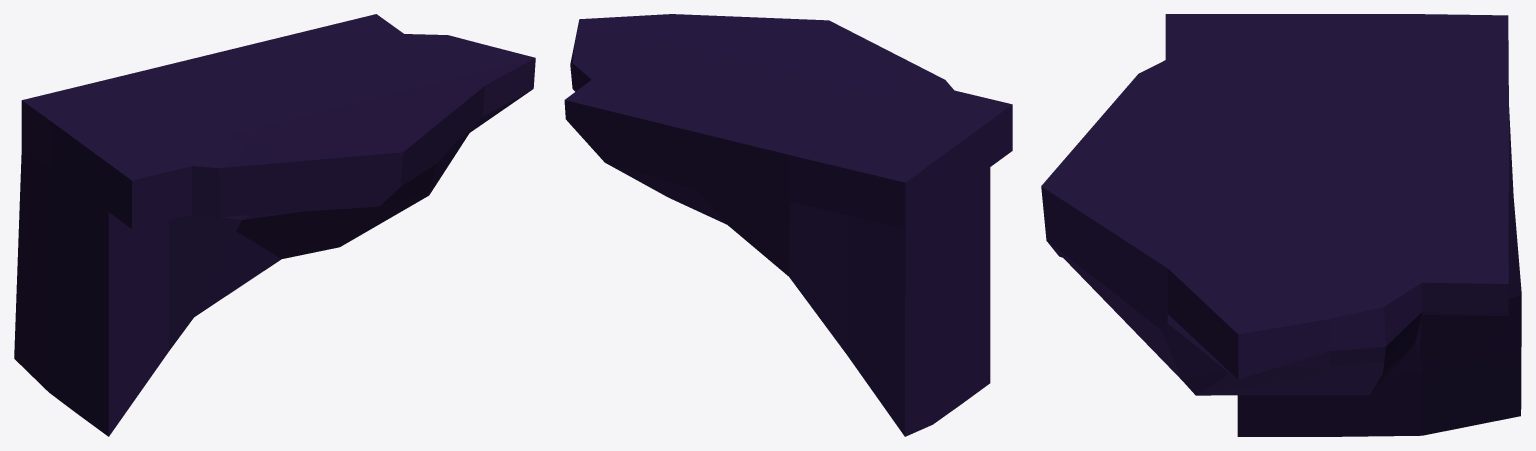
Rendered from cliff_001_grp.fbx.
3 views of the same model, side by side, from view 1: azimuth 30°, elevation 25°; view 2: azimuth 150°, elevation 25°; view 3: azimuth 270°, elevation 25° (orthographic). The views are drawn at different scales.
Visible parts, largest first — view 1: cliff_001_grp; view 2: cliff_001_grp; view 3: cliff_001_grp.
Boxes of the visible parts, box(x1,y1,x2,y2) form: cliff_001_grp: box(14, 14, 535, 436); cliff_001_grp: box(564, 14, 1012, 436); cliff_001_grp: box(1041, 14, 1521, 436).
Bounding box in the file's own units: 800 × 500 × 500.
